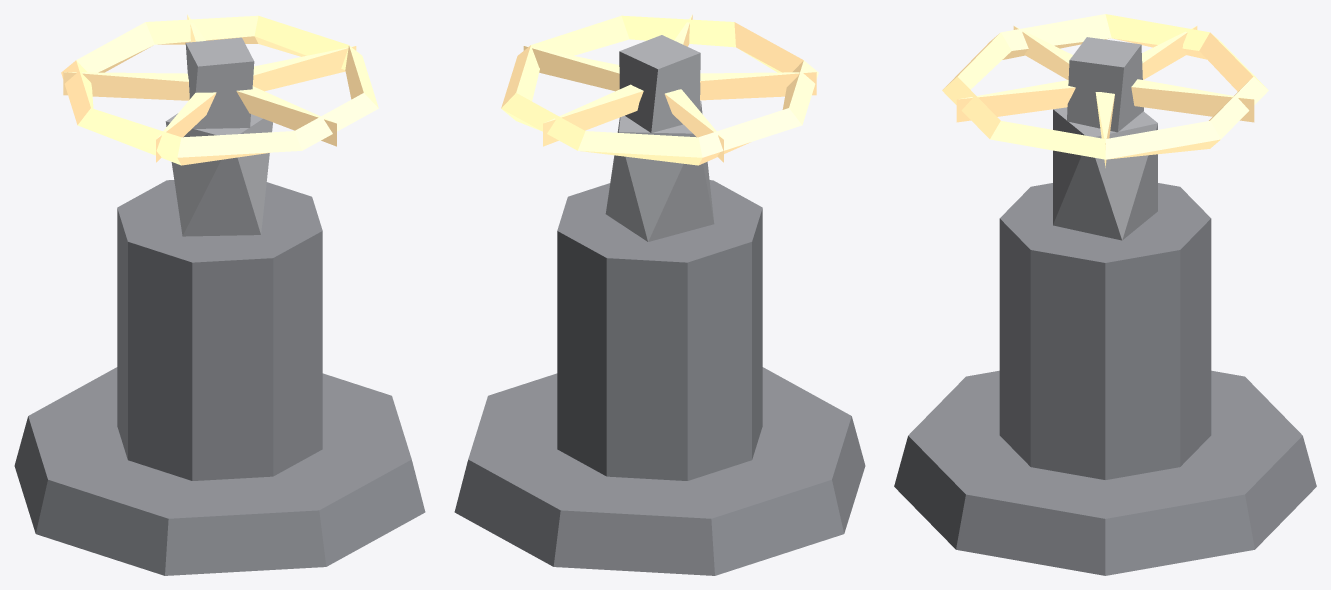
The model's file is 70-Interacciones_valvula_manivela.glb.
3 renders of one model, left to right at view 1: azimuth 30°, elevation 25°; view 2: azimuth 150°, elevation 25°; view 3: azimuth 270°, elevation 25°, orthographic.
Visible parts, largest first — view 1: SM_Valvula_M_Hierro_Valvula_Acero_Cubo_Bronce_Volante; view 2: SM_Valvula_M_Hierro_Valvula_Acero_Cubo_Bronce_Volante; view 3: SM_Valvula_M_Hierro_Valvula_Acero_Cubo_Bronce_Volante.
Part boxes in pixels (<box>): SM_Valvula_M_Hierro_Valvula_Acero_Cubo_Bronce_Volante: <box>14,14,425,575</box>; SM_Valvula_M_Hierro_Valvula_Acero_Cubo_Bronce_Volante: <box>454,14,865,575</box>; SM_Valvula_M_Hierro_Valvula_Acero_Cubo_Bronce_Volante: <box>894,14,1316,575</box>.
Bounding box in the file's own units: 0.6 × 0.68 × 0.6.
